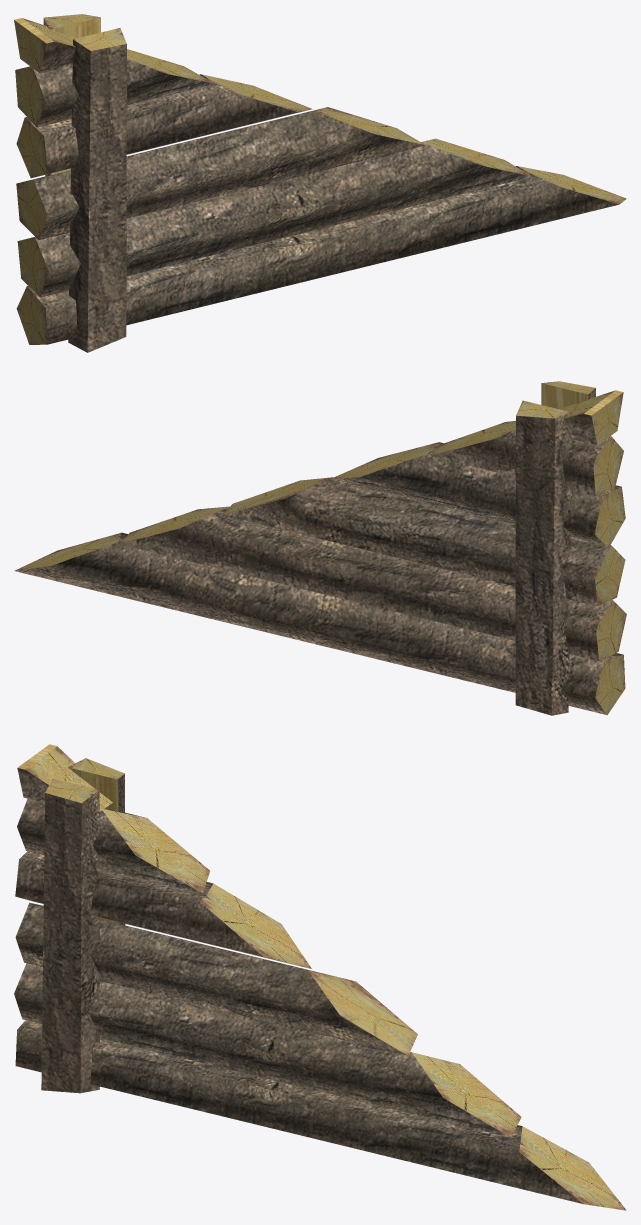
The model's file is construction_wood_wall_triangle_mesh.fbx.
3 renders of one model, top to bottom at view 1: azimuth 30°, elevation 25°; view 2: azimuth 150°, elevation 25°; view 3: azimuth 330°, elevation 25°, orthographic.
Visible parts, largest first — view 1: construction_wood_wall_triangle; view 2: construction_wood_wall_triangle; view 3: construction_wood_wall_triangle.
Boxes of the visible parts, x1,y1,x2,y2 form: construction_wood_wall_triangle: (14,14,626,352); construction_wood_wall_triangle: (14,381,626,715); construction_wood_wall_triangle: (14,744,626,1210).
Size of the model in its own units: 300 by 150 by 38.95.
